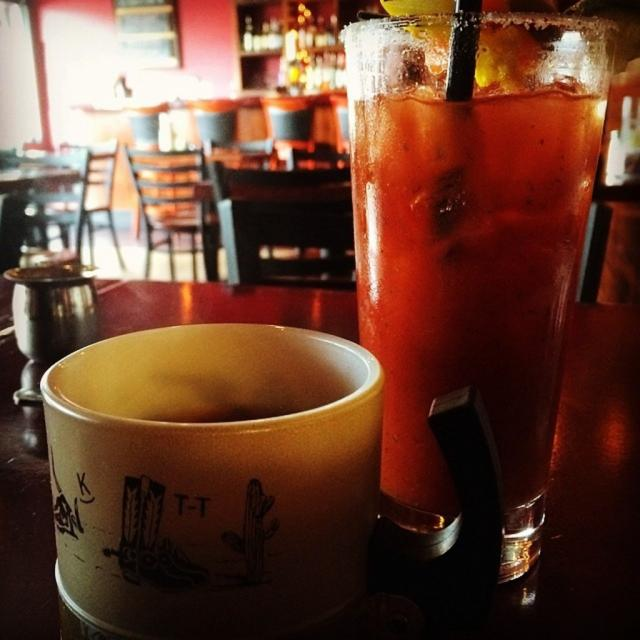Tea: (358, 47, 605, 524)
